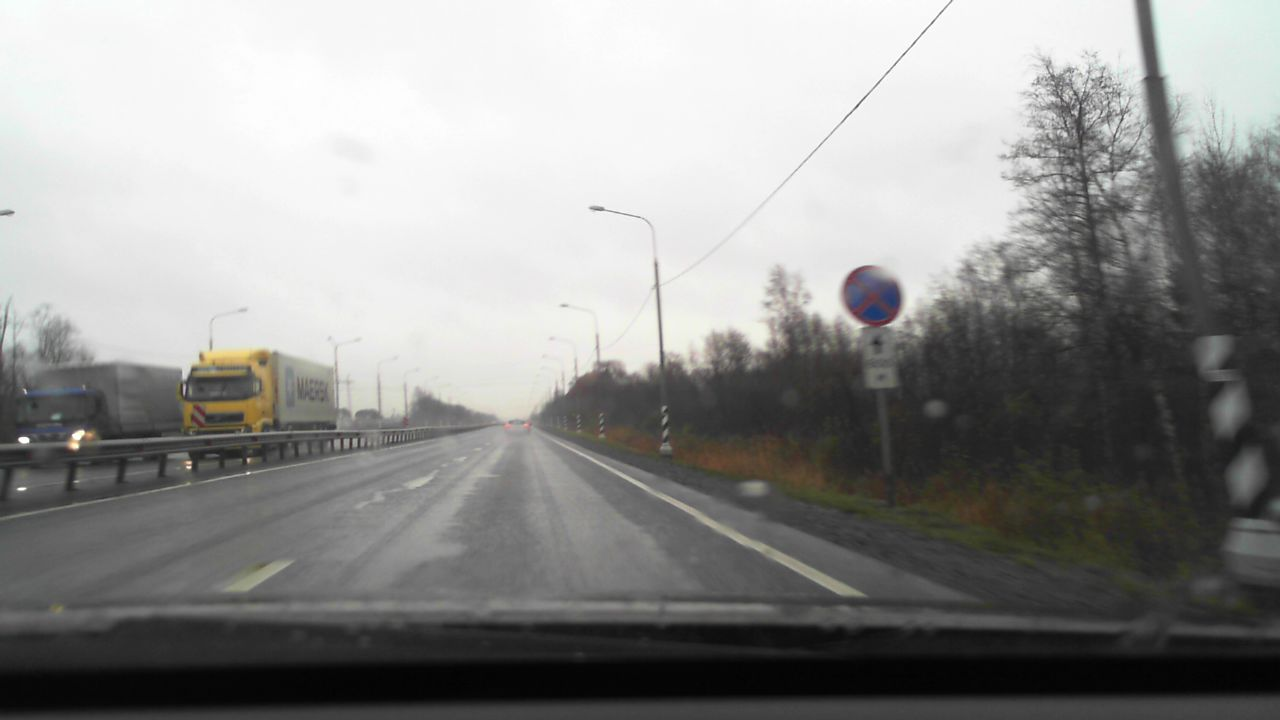No Parking: (842, 265, 902, 325)
